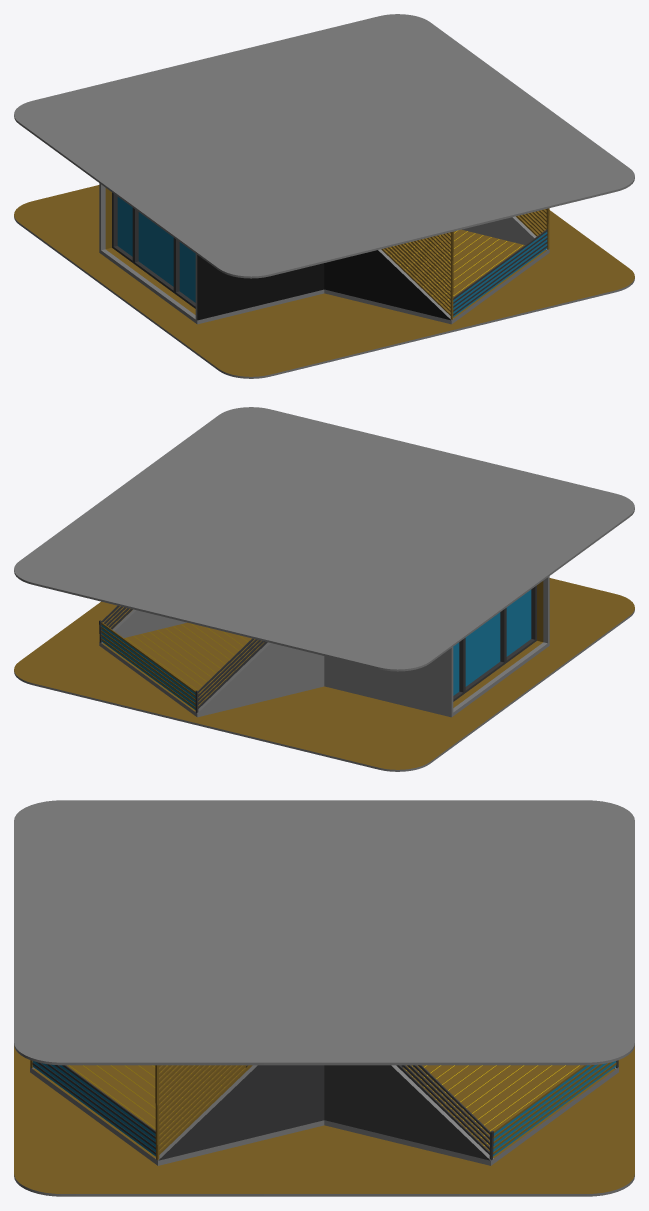
File: SM_MK12_Middle_001.fbx
3 renders of one model, top to bottom at view 1: azimuth 30°, elevation 25°; view 2: azimuth 150°, elevation 25°; view 3: azimuth 270°, elevation 25°, orthographic. The views are drawn at different scales.
Parts seen in each view (by area): view 1: SM_MK12_Middle_001; view 2: SM_MK12_Middle_001; view 3: SM_MK12_Middle_001.
Boxes of the visible parts, <box> form: SM_MK12_Middle_001: <box>14,14,634,378</box>; SM_MK12_Middle_001: <box>14,407,634,771</box>; SM_MK12_Middle_001: <box>14,800,634,1196</box>.
Bounding box in the file's own units: 2100 × 500 × 2100.
